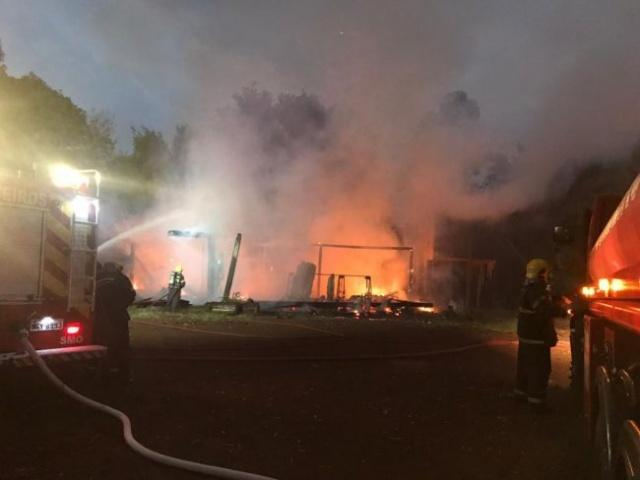smoke: (328, 5, 428, 124)
